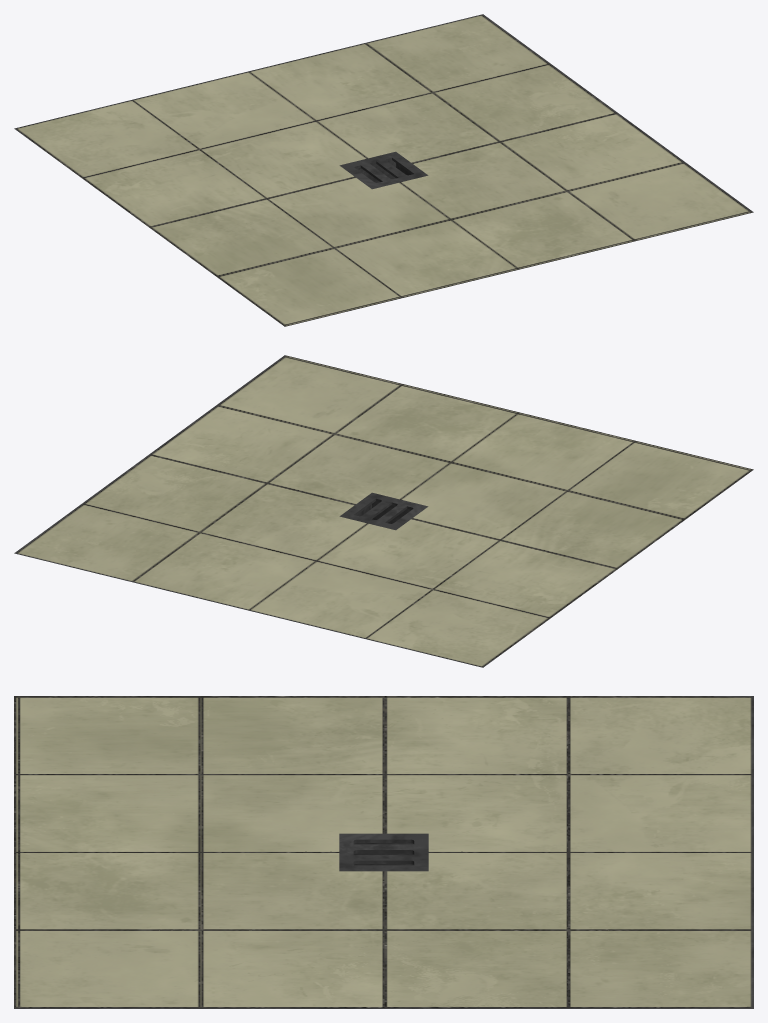
Rendered from Lab_floor_With_Drain_New.fbx.
3 views of the same model, one above another, from view 1: azimuth 30°, elevation 25°; view 2: azimuth 150°, elevation 25°; view 3: azimuth 270°, elevation 25° (orthographic). The views are drawn at different scales.
Parts seen in each view (by area): view 1: Floor2; view 2: Floor2; view 3: Floor2.
Boxes of the visible parts, bbox=[...] form: Floor2: bbox=[14, 14, 753, 326]; Floor2: bbox=[14, 355, 753, 667]; Floor2: bbox=[14, 696, 753, 1008].
Bounding box in the file's own units: 2187 × 245 × 2187.
Materials: 1 (1 with a texture image).
